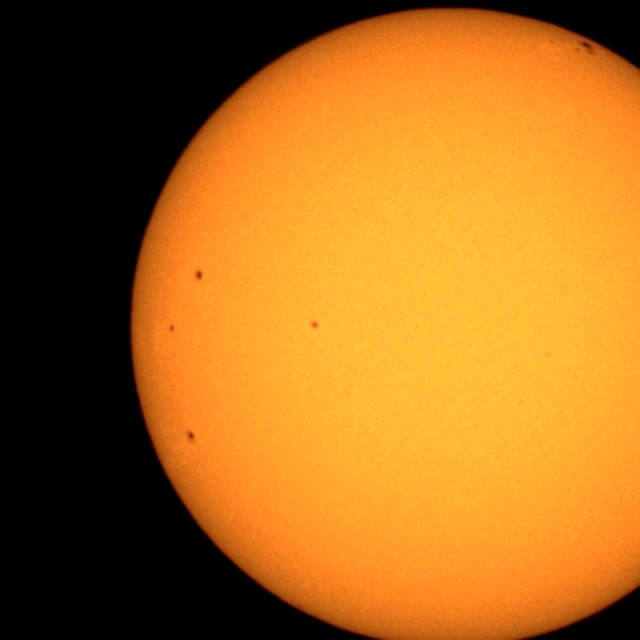sunspot: (574, 39, 598, 58), (185, 429, 197, 445), (194, 268, 204, 282), (308, 320, 320, 331), (168, 323, 176, 334)
